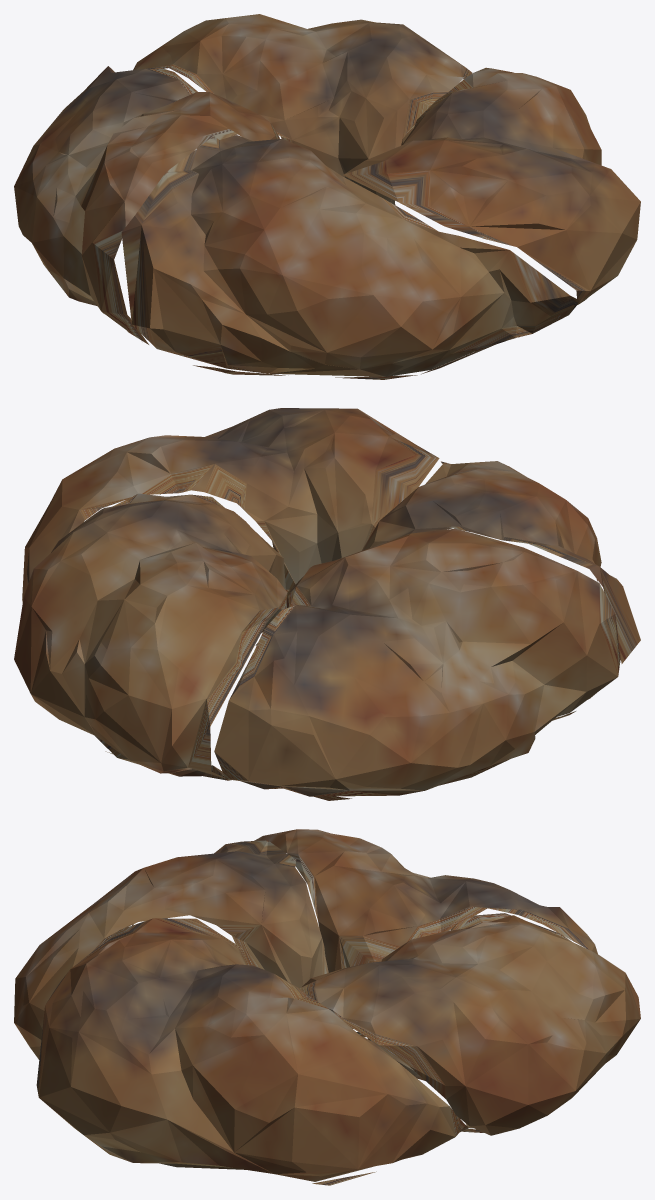
File: food_packaged_bread_danish_c01.glb
The picture shows the model from 3 angles, top to bottom: view 1: azimuth 30°, elevation 25°; view 2: azimuth 150°, elevation 25°; view 3: azimuth 270°, elevation 25°; orthographic projection. The views are drawn at different scales.
Parts seen in each view (by area): view 1: geometry_0; view 2: geometry_0; view 3: geometry_0.
Part boxes in pixels (x1=…): geometry_0: x1=14, y1=14, x2=640, y2=379; geometry_0: x1=14, y1=408, x2=640, y2=800; geometry_0: x1=14, y1=829, x2=640, y2=1185.
Bounding box in the file's own units: 0.3901 × 0.13 × 0.42.
1 material, 1 textured.
